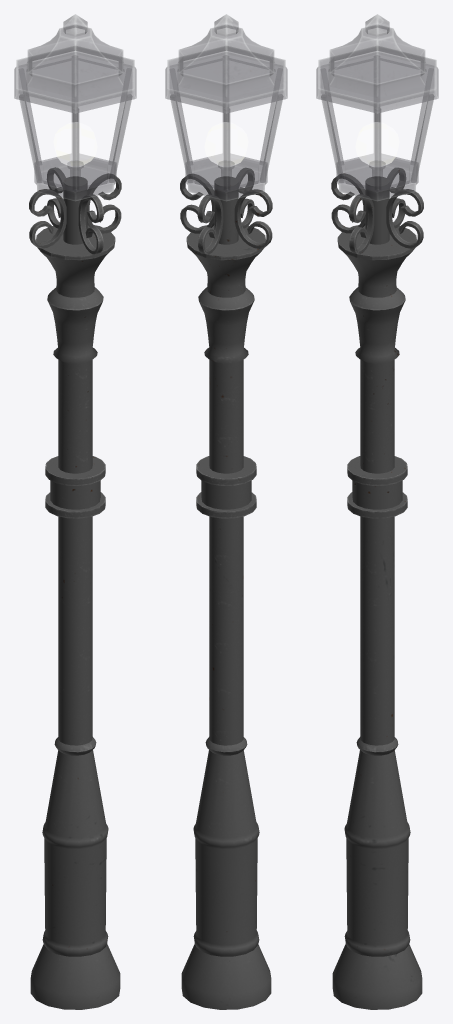
File: lamp2.glb
3 views of the same model, side by side, from view 1: azimuth 30°, elevation 25°; view 2: azimuth 150°, elevation 25°; view 3: azimuth 330°, elevation 25° (orthographic).
Visible parts, largest first — view 1: pole_single_01, case_top_lamp02_0.001, glass_lamp02_0.001, case_bottom_lamp02_0.001, bulb_lamp02_0.001, sides3_lamp02_0.001, sides2_lamp02_0.001, sides5_lamp02_0.001, sides1_lamp02_0.001, sides6_lamp02_0.001; view 2: pole_single_01, case_top_lamp02_0.001, glass_lamp02_0.001, case_bottom_lamp02_0.001, bulb_lamp02_0.001, sides4_lamp02_0.001, sides3_lamp02_0.001, sides6_lamp02_0.001, sides5_lamp02_0.001, sides1_lamp02_0.001; view 3: pole_single_01, case_top_lamp02_0.001, glass_lamp02_0.001, case_bottom_lamp02_0.001, bulb_lamp02_0.001, sides5_lamp02_0.001, sides1_lamp02_0.001, sides2_lamp02_0.001, sides4_lamp02_0.001, sides3_lamp02_0.001.
Part boxes in pixels (x1,y1,x2,y2): pole_single_01: (29,167,121,1009); case_top_lamp02_0.001: (14,14,136,113); glass_lamp02_0.001: (19,52,131,190); case_bottom_lamp02_0.001: (34,154,116,201); bulb_lamp02_0.001: (53,122,97,178); sides3_lamp02_0.001: (19,94,42,182); sides2_lamp02_0.001: (109,94,132,182); sides5_lamp02_0.001: (73,107,78,191); sides1_lamp02_0.001: (108,68,131,164); sides6_lamp02_0.001: (19,68,41,164); pole_single_01: (180,168,272,1009); case_top_lamp02_0.001: (165,14,287,113); glass_lamp02_0.001: (170,52,282,190); case_bottom_lamp02_0.001: (185,154,267,201); bulb_lamp02_0.001: (204,122,248,178); sides4_lamp02_0.001: (170,94,193,182); sides3_lamp02_0.001: (260,94,283,182); sides6_lamp02_0.001: (224,107,229,191); sides5_lamp02_0.001: (259,68,282,164); sides1_lamp02_0.001: (170,68,192,164); pole_single_01: (331,168,423,1009); case_top_lamp02_0.001: (316,14,438,113); glass_lamp02_0.001: (321,52,433,190); case_bottom_lamp02_0.001: (336,154,418,201); bulb_lamp02_0.001: (355,122,399,178); sides5_lamp02_0.001: (321,94,344,182); sides1_lamp02_0.001: (411,94,434,182); sides2_lamp02_0.001: (375,107,380,191); sides4_lamp02_0.001: (410,68,433,164); sides3_lamp02_0.001: (321,68,343,164).
Bounding box in the file's own units: 0.6761 × 5.17 × 0.5855.
2 materials, 2 textured.
